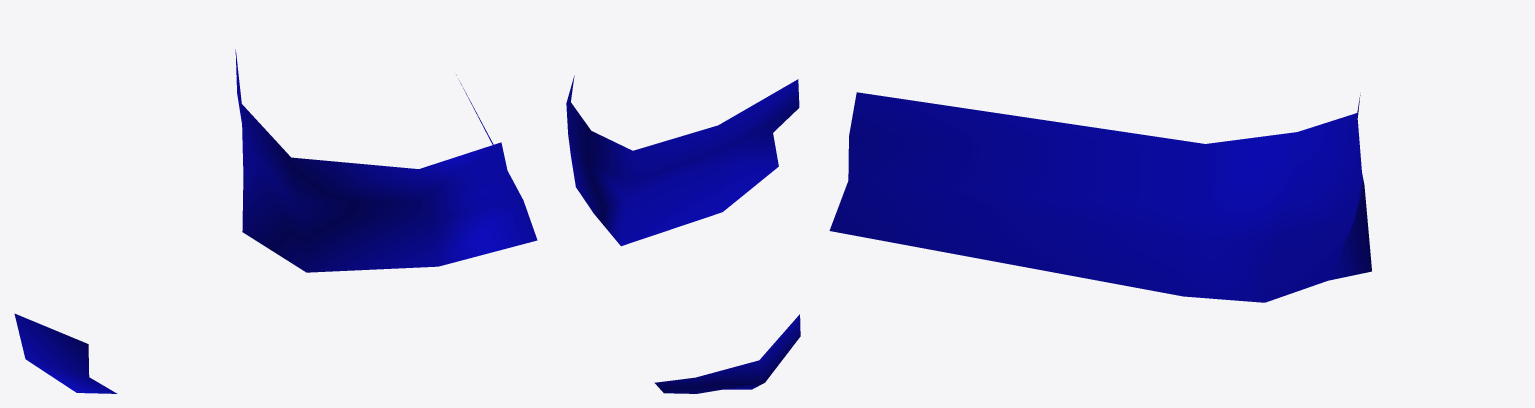
Rendered from BlizzardMountainRocks.glb.
3 views of the same model, side by side, from view 1: azimuth 30°, elevation 25°; view 2: azimuth 150°, elevation 25°; view 3: azimuth 270°, elevation 25° (orthographic). The views are drawn at different scales.
Parts seen in each view (by area): view 1: BlizzardMountainRocks; view 2: BlizzardMountainRocks; view 3: BlizzardMountainRocks.
Boxes of the visible parts, x1,y1,x2,y2 form: BlizzardMountainRocks: (14,49,537,393); BlizzardMountainRocks: (566,75,800,393); BlizzardMountainRocks: (829,92,1371,302).
Size of the model in its own units: 4.08 by 3.67 by 5.38.
